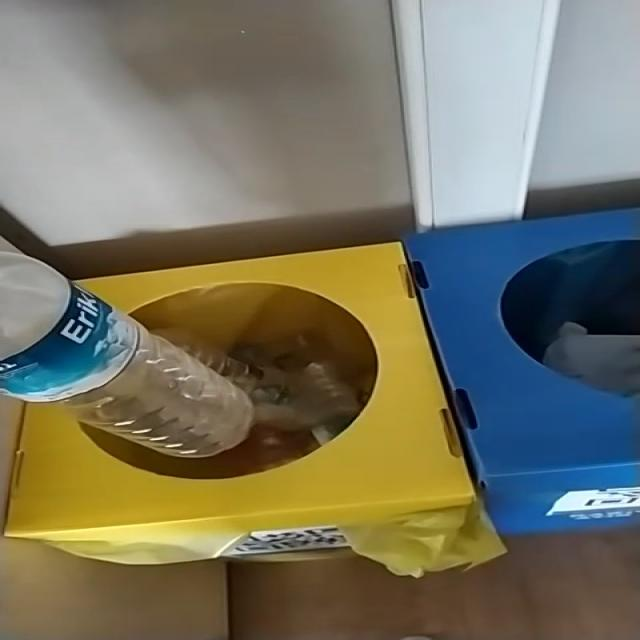plastic: (1, 252, 253, 458)
